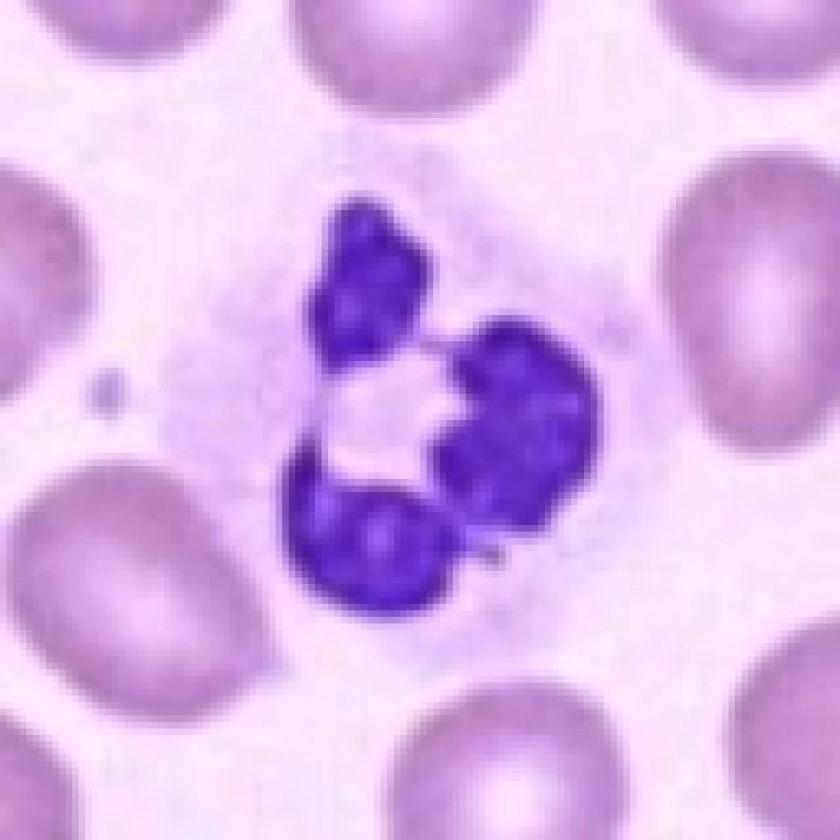neutrophil: (156, 126, 696, 680)
